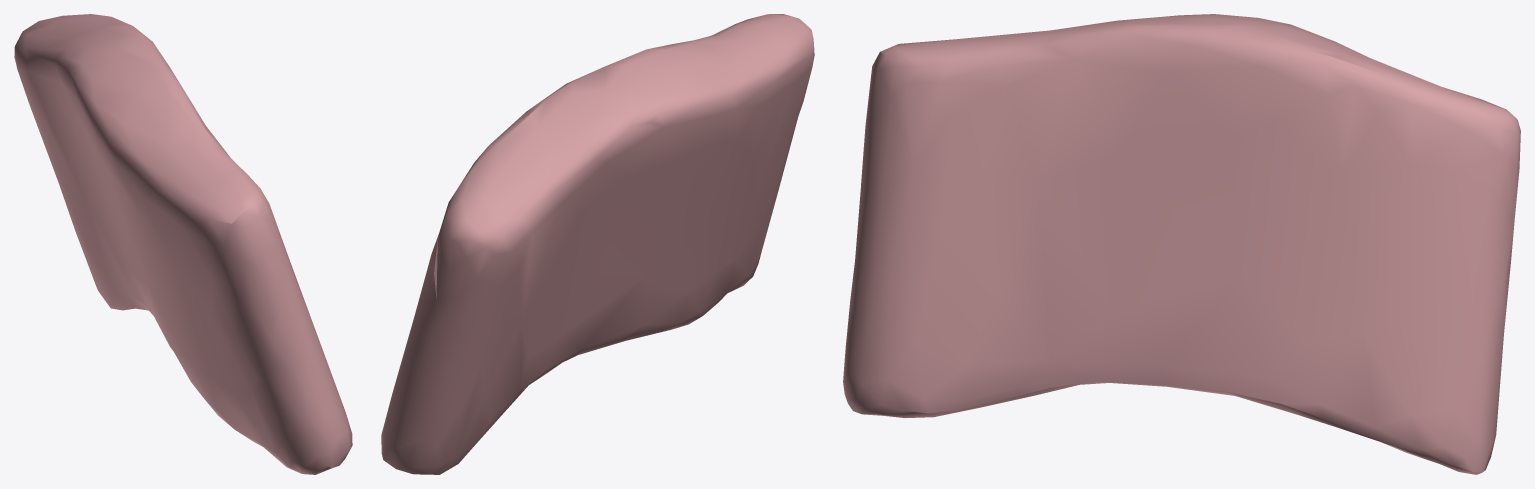
File: fma275375-o_mm3369.glb
3 renders of one model, left to right at view 1: azimuth 30°, elevation 25°; view 2: azimuth 150°, elevation 25°; view 3: azimuth 270°, elevation 25°, orthographic. The views are drawn at different scales.
Visible parts, largest first — view 1: FMA275375-O_MM3369; view 2: FMA275375-O_MM3369; view 3: FMA275375-O_MM3369.
Boxes of the visible parts, box(x1,y1,x2,y2) form: FMA275375-O_MM3369: box(14, 14, 352, 474); FMA275375-O_MM3369: box(381, 14, 814, 474); FMA275375-O_MM3369: box(843, 14, 1520, 474).
Bounding box in the file's own units: 0.00605 × 0.00978 × 0.0151.
